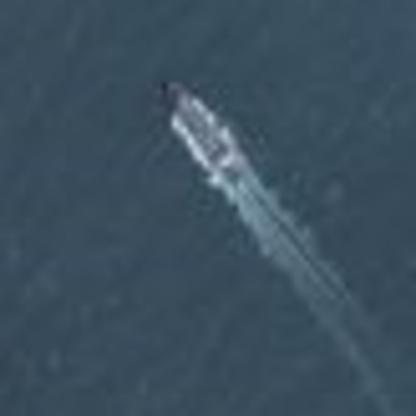ship: (151, 73, 246, 185)
